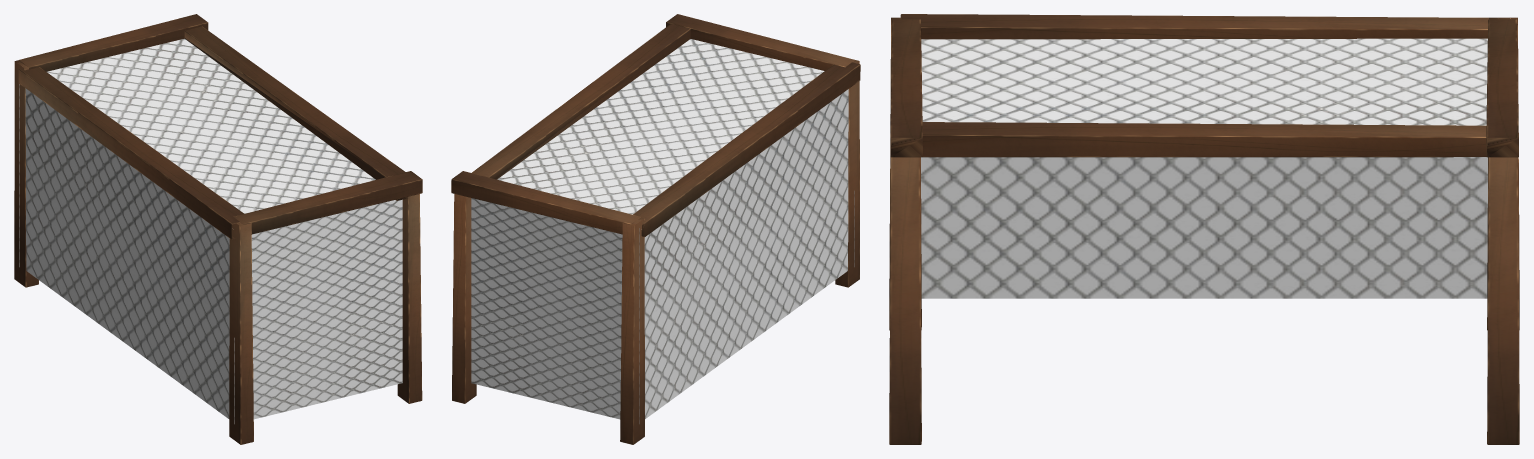
File: football goal post .fbx
The picture shows the model from 3 angles, left to right: view 1: azimuth 30°, elevation 25°; view 2: azimuth 150°, elevation 25°; view 3: azimuth 270°, elevation 25°; orthographic projection. The views are drawn at different scales.
Visible parts, largest first — view 1: Object_11.001, Object.340; view 2: Object_11.001, Object.340; view 3: Object_11.001, Object.340.
Boxes of the visible parts, x1,y1,x2,y2 form: Object_11.001: (19,38,402,423); Object.340: (14,14,422,444); Object_11.001: (471,39,854,423); Object.340: (451,14,860,444); Object_11.001: (921,38,1487,298); Object.340: (889,14,1519,444).
Bounding box in the file's own units: 137 × 155 × 288.
5 materials, 5 textured.
